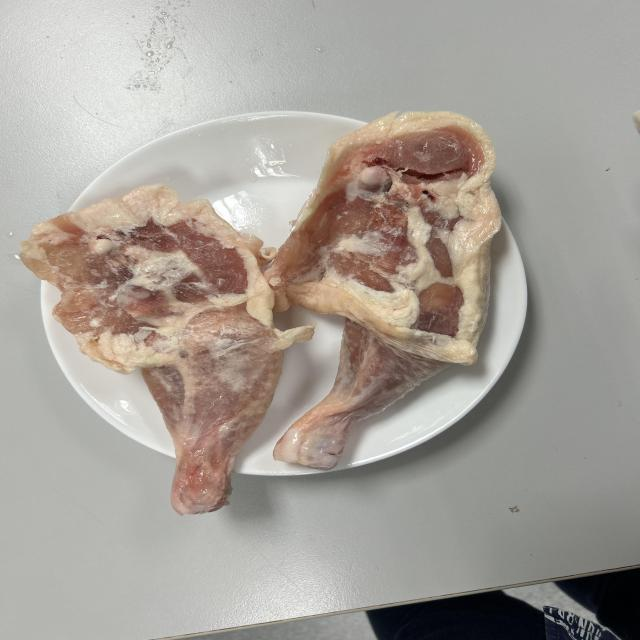quater: (9, 193, 289, 515), (284, 108, 504, 484)
